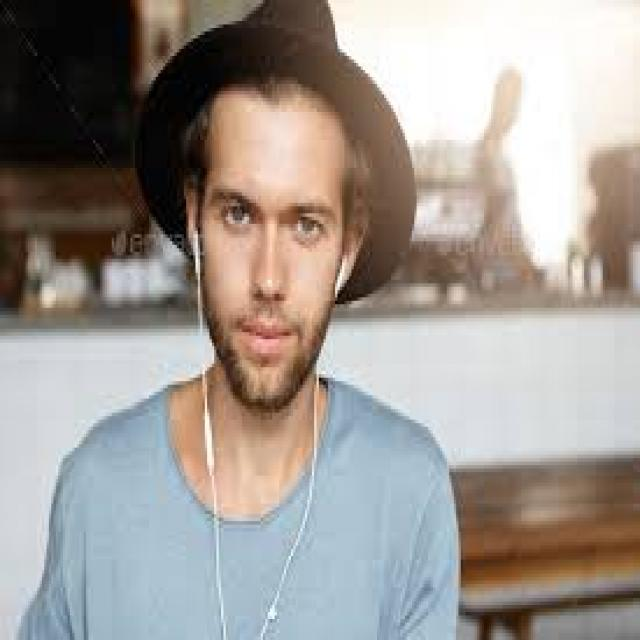hat: (133, 0, 434, 273)
